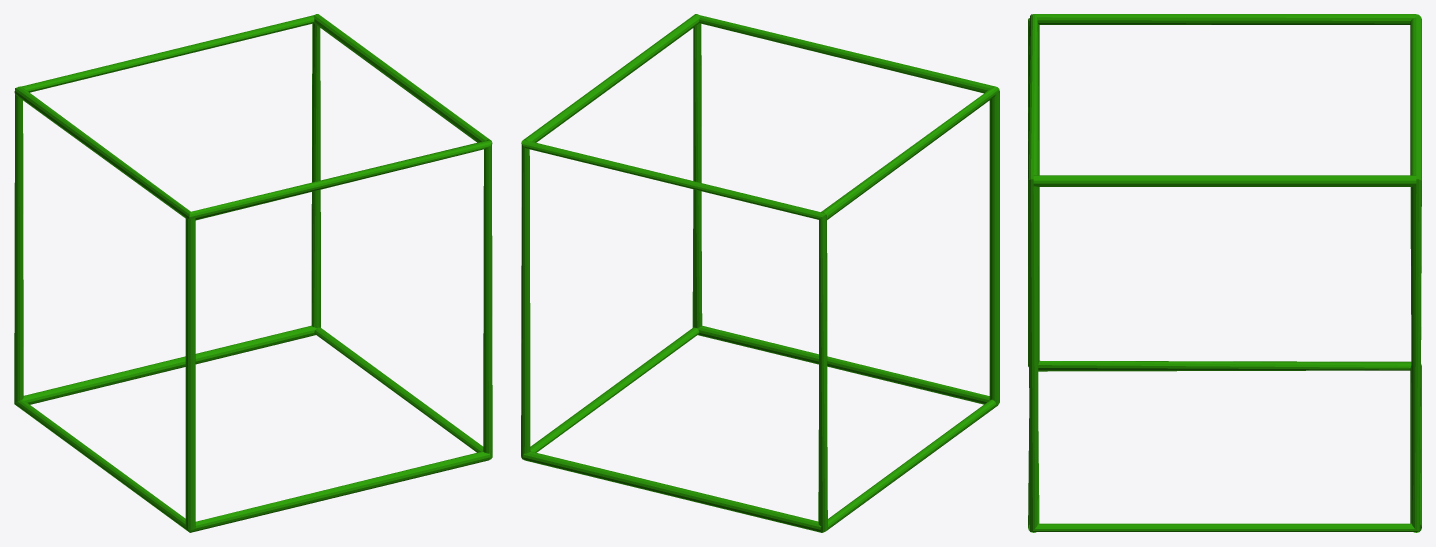
The model's file is cubewire.glb.
3 views of the same model, side by side, from view 1: azimuth 30°, elevation 25°; view 2: azimuth 150°, elevation 25°; view 3: azimuth 270°, elevation 25° (orthographic). The views are drawn at different scales.
Visible parts, largest first — view 1: Cube; view 2: Cube; view 3: Cube.
Boxes of the visible parts, box(x1,y1,x2,y2) form: Cube: box(14, 14, 492, 532); Cube: box(521, 14, 999, 532); Cube: box(1028, 14, 1421, 532).
Bounding box in the file's own units: 2.06 × 2.06 × 2.06.
